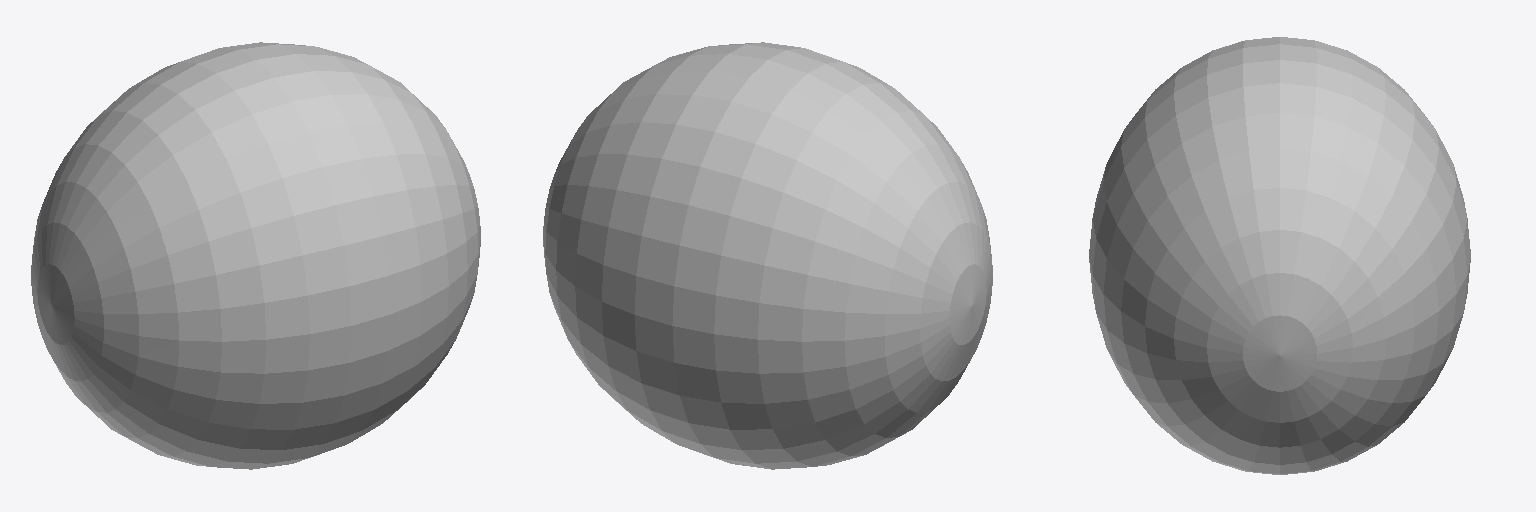
File: infeccion.obj
3 views of the same model, side by side, from view 1: azimuth 30°, elevation 25°; view 2: azimuth 150°, elevation 25°; view 3: azimuth 270°, elevation 25° (orthographic).
Visible parts, largest first — view 1: Cabeza.001; view 2: Cabeza.001; view 3: Cabeza.001.
Part boxes in pixels (x1,y1,x2,y2): Cabeza.001: (31,42,480,469); Cabeza.001: (543,42,992,469); Cabeza.001: (1089,37,1470,474).
Bounding box in the file's own units: 0.0828 × 0.076 × 0.0672.